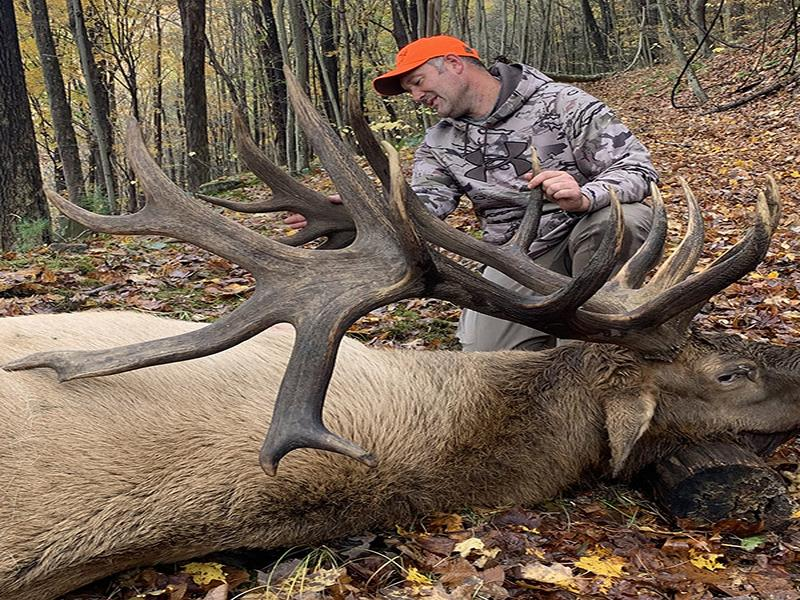elk: (1, 139, 780, 593)
